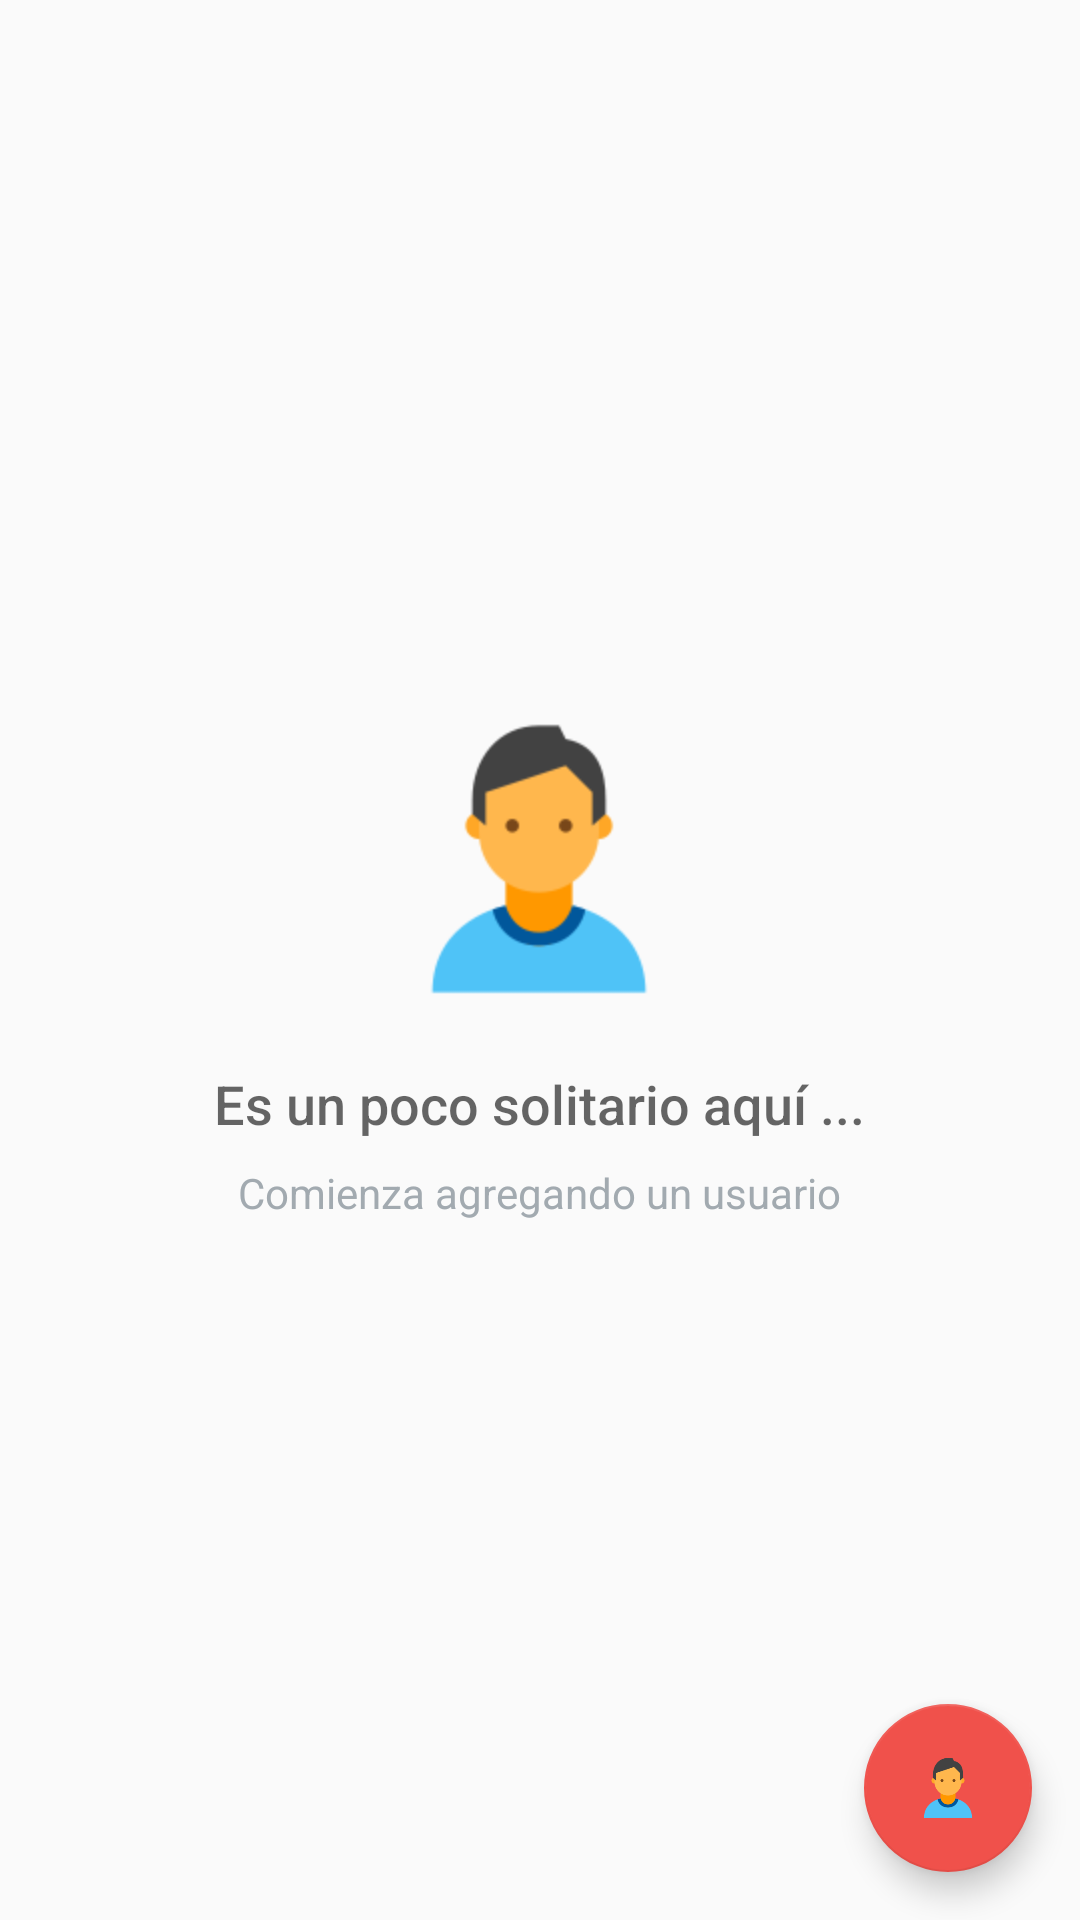

Icons on this 1080 × 1920 Android screen, each with the point to tap as [x,y]:
user: [539,859], [948,1788]
